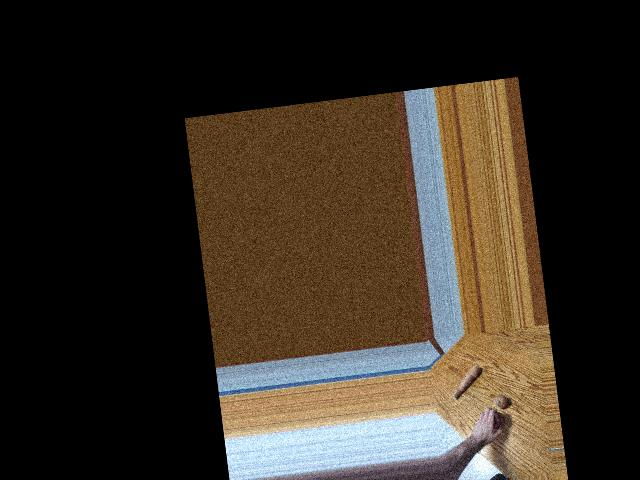onion: (490, 411, 504, 428)
